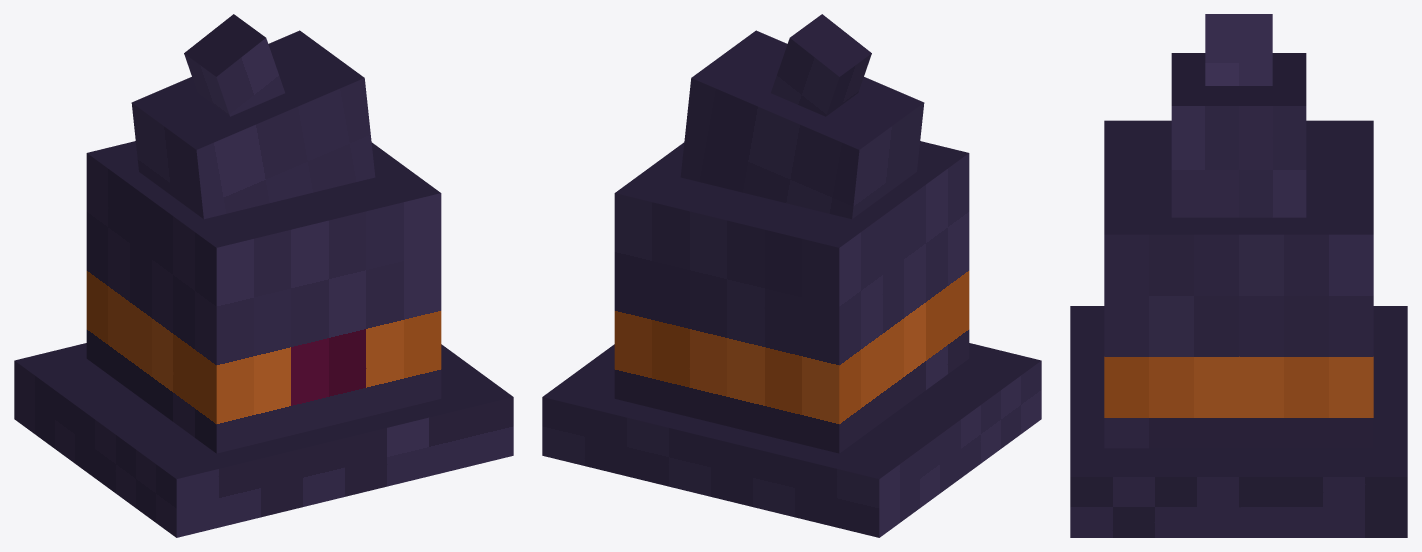
Rendered from WitchHat.fbx.
3 views of the same model, side by side, from view 1: azimuth 30°, elevation 25°; view 2: azimuth 150°, elevation 25°; view 3: azimuth 270°, elevation 25° (orthographic). The views are drawn at different scales.
Parts seen in each view (by area): view 1: chapo+1, base, chapo+2, top; view 2: chapo+1, base, chapo+2, top; view 3: chapo+1, base, chapo+2, top.
Boxes of the visible parts, x1,y1,x2,y2 form: chapo+1: [86, 141, 441, 453]; base: [14, 343, 513, 537]; chapo+2: [131, 30, 375, 219]; top: [184, 14, 284, 116]; chapo+1: [614, 141, 969, 453]; base: [542, 343, 1041, 537]; chapo+2: [680, 30, 924, 219]; top: [771, 14, 871, 116]; chapo+1: [1104, 120, 1373, 448]; base: [1070, 306, 1407, 537]; chapo+2: [1171, 53, 1306, 217]; top: [1205, 14, 1272, 85].
Size of the model in its own units: 18.75 by 22.07 by 15.62.
Materials: 1 (1 with a texture image).
